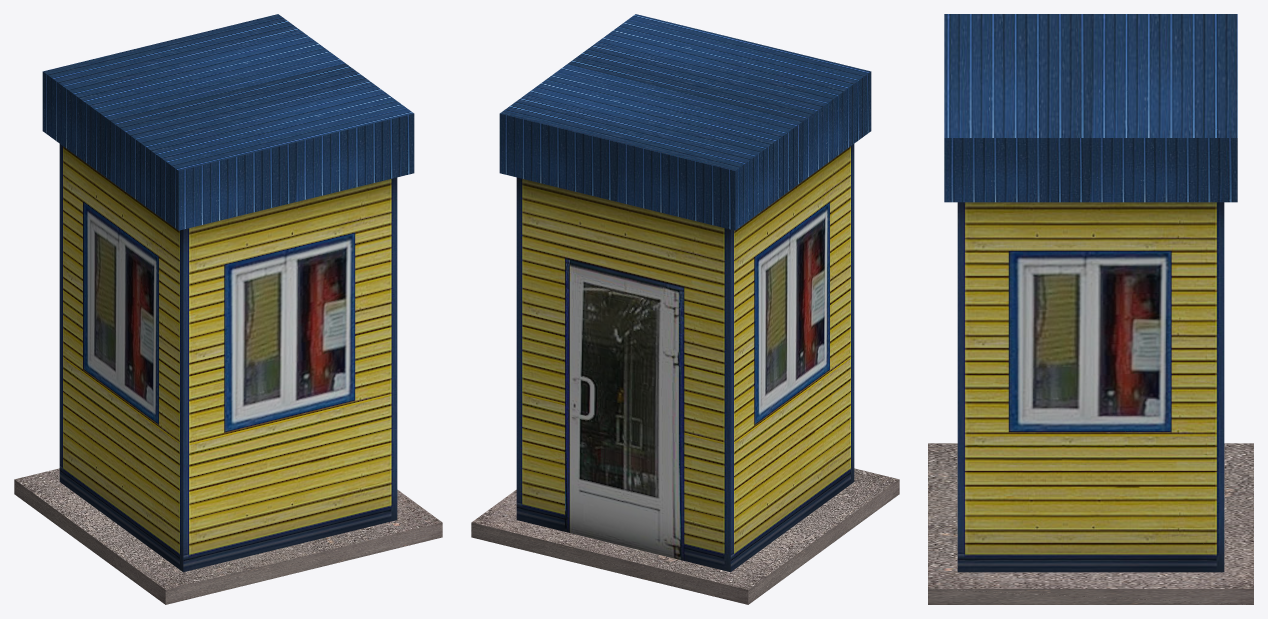
The model's file is r402_kpp_uyut.FBX.
3 views of the same model, side by side, from view 1: azimuth 30°, elevation 25°; view 2: azimuth 150°, elevation 25°; view 3: azimuth 270°, elevation 25° (orthographic). The views are drawn at different scales.
Visible parts, largest first — view 1: r402_kpp_uyut; view 2: r402_kpp_uyut; view 3: r402_kpp_uyut.
Boxes of the visible parts, <box> form: r402_kpp_uyut: <box>14,14,442,604</box>; r402_kpp_uyut: <box>471,14,899,604</box>; r402_kpp_uyut: <box>928,14,1253,604</box>.
Size of the model in its own units: 2 by 1.89 by 2.92.
